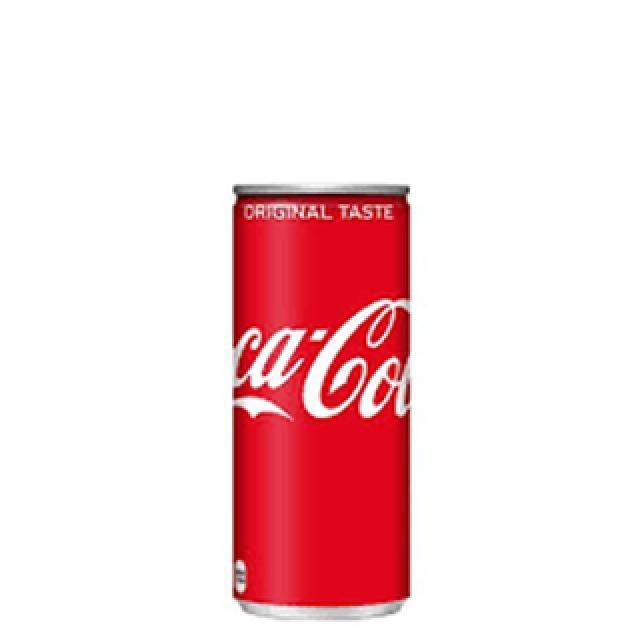can: (227, 172, 423, 622)
